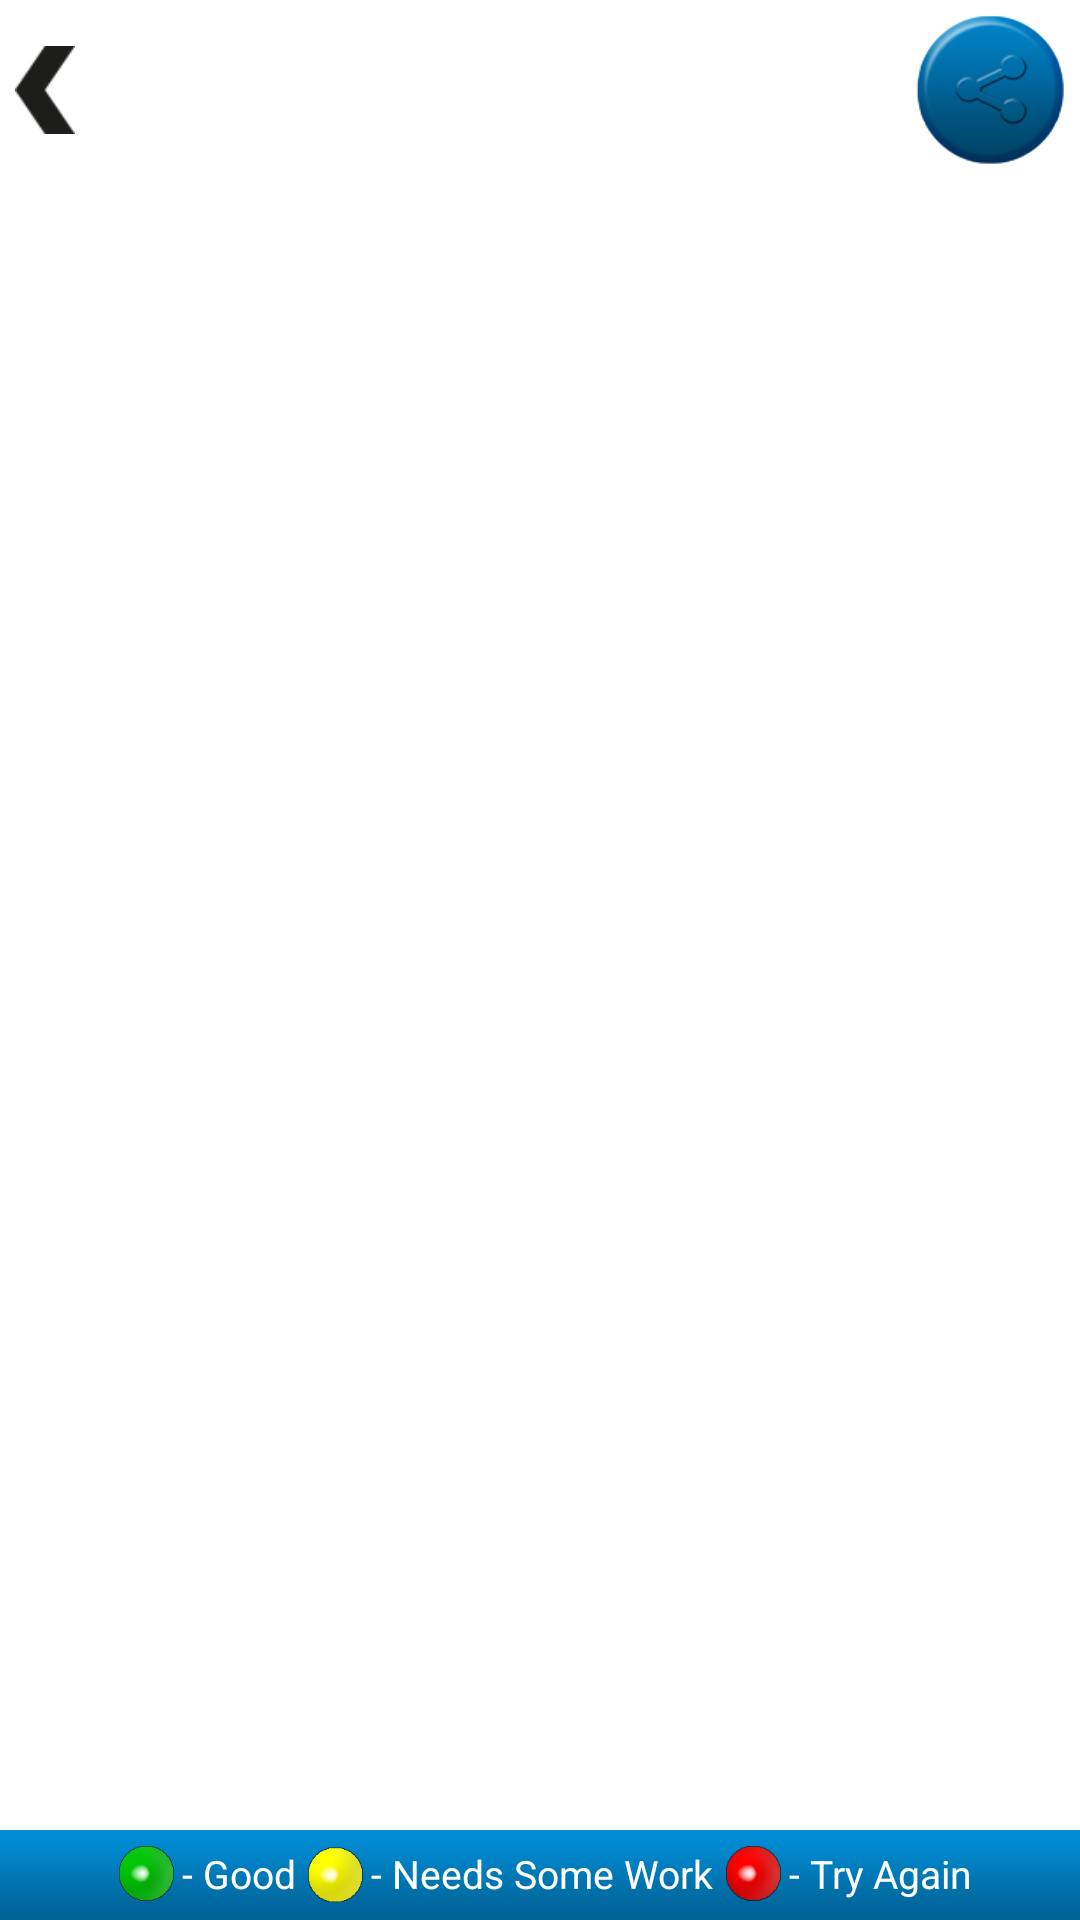

Named icons in this screenshot (1080*1920) and their centers, point (x, y):
previous: point (45, 90)
sharebutton: point (990, 90)
status: point (144, 1874), point (333, 1874), point (751, 1874)
